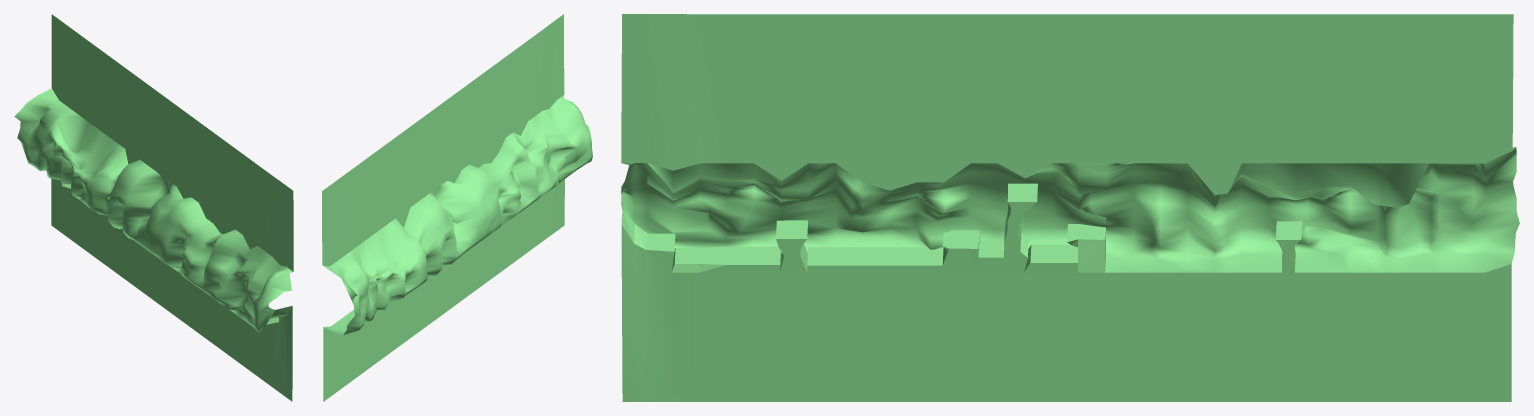
Rendered from level 2 Part 1 mesh.FBX.
The picture shows the model from 3 angles, left to right: view 1: azimuth 30°, elevation 25°; view 2: azimuth 150°, elevation 25°; view 3: azimuth 270°, elevation 25°; orthographic projection. The views are drawn at different scales.
Parts seen in each view (by area): view 1: part 007; view 2: part 007; view 3: part 007.
Boxes of the visible parts, x1,y1,x2,y2 form: part 007: [14, 14, 293, 401]; part 007: [322, 14, 592, 401]; part 007: [621, 14, 1519, 401].
Bounding box in the file's own units: 943 × 5080 × 10644.
